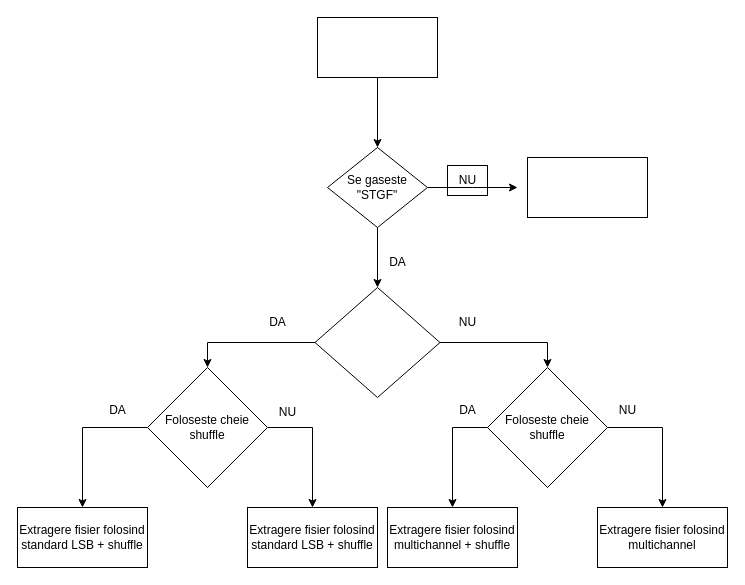
This 745x585 diagram has some shape labels left out. The centre of each missing label's shape, as x and y in pixels:
"EROARE In imagine nu este ascuns un fisier!" belongs at (587,187).
"Extract file from image" belongs at (377,47).
"Foloseste standard LSB" belongs at (377,342).
